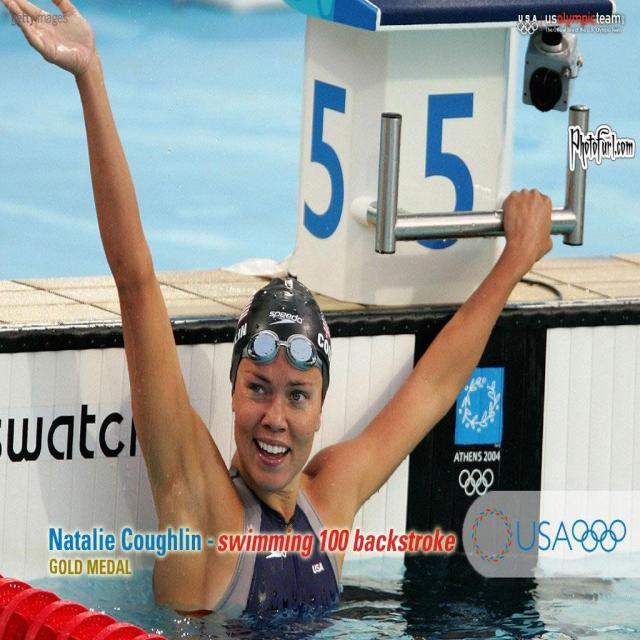Face: (235, 320, 339, 495)
